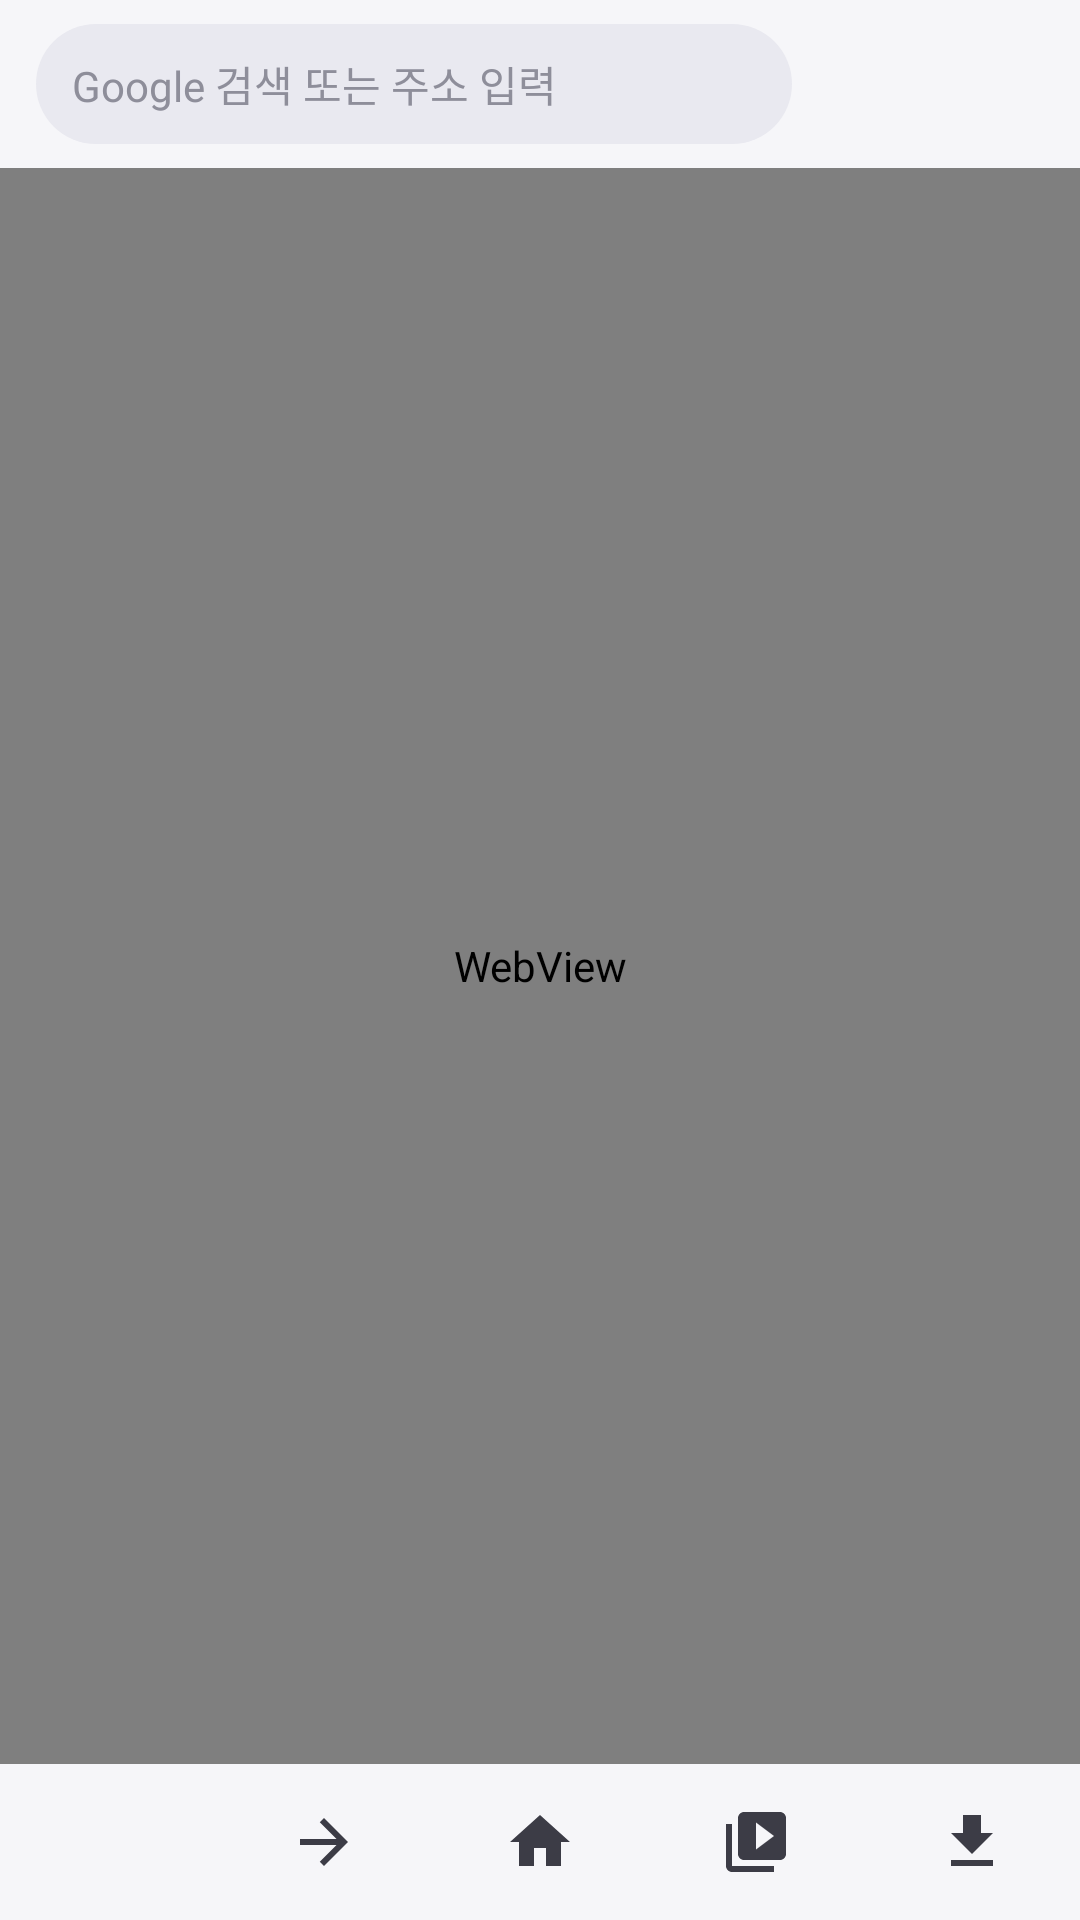

Named icons in this screenshot (1080px x 1920px) and their centers, [x,y]:
home: [540,1840]
감지된 동영상: [756,1842]
다운로드 목록: [972,1840]
앞으로: [324,1842]
